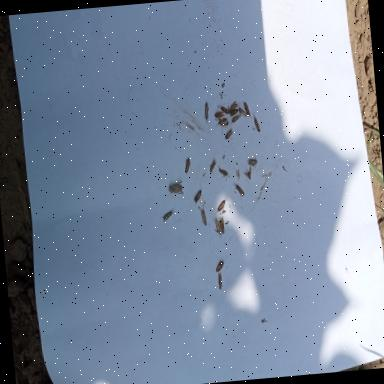pbw: (214, 269, 225, 295), (214, 196, 229, 214), (214, 256, 230, 272), (160, 208, 177, 223), (193, 184, 204, 206), (218, 164, 231, 182), (233, 182, 245, 200), (204, 100, 213, 124), (241, 101, 252, 120), (216, 116, 230, 130), (213, 218, 222, 237), (253, 112, 261, 133), (227, 100, 241, 112), (224, 128, 234, 144), (248, 154, 258, 170), (202, 208, 210, 228), (218, 216, 225, 238), (229, 110, 240, 124), (214, 107, 226, 119), (237, 106, 248, 118), (219, 104, 230, 116), (210, 158, 218, 174), (184, 158, 191, 175), (244, 166, 252, 180), (230, 106, 240, 117)
